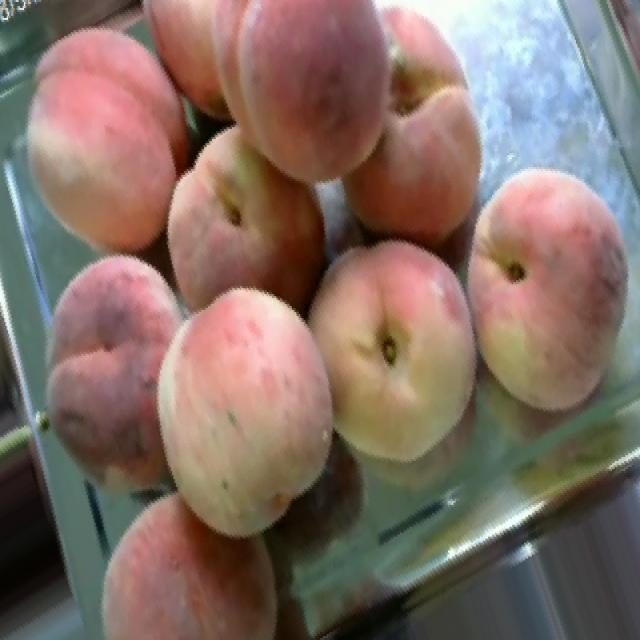Fruit: (132, 260, 372, 570), (277, 205, 516, 497), (0, 0, 231, 286), (433, 141, 640, 439), (15, 232, 216, 532), (164, 0, 429, 219), (321, 0, 520, 282), (129, 111, 364, 346), (76, 483, 317, 640)
